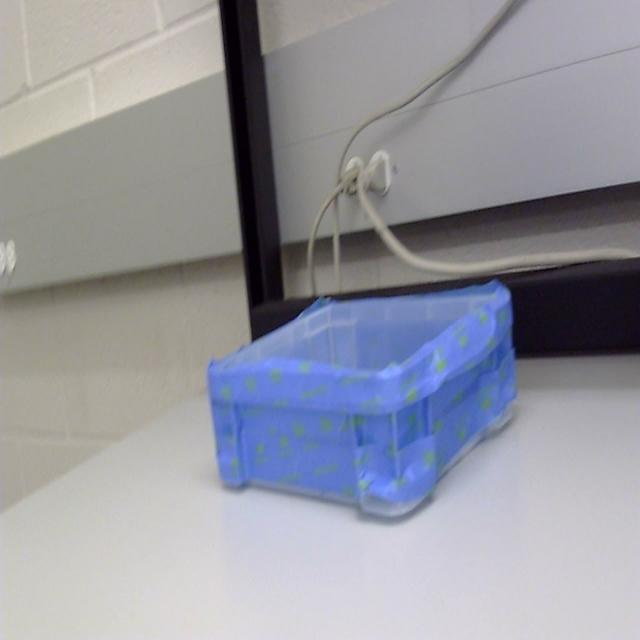bucket: (206, 282, 518, 524)
